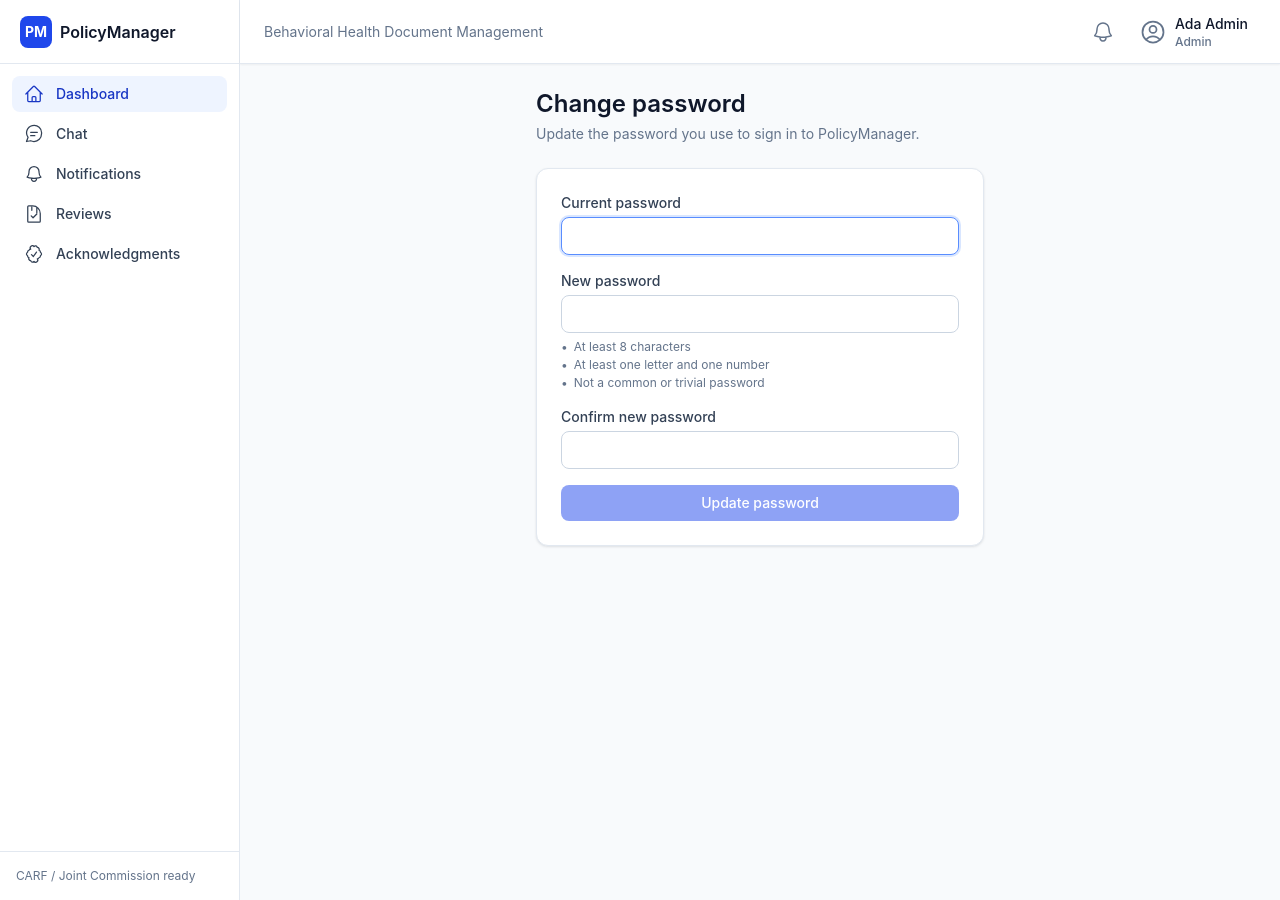
it: ChangePasswordPage › submits a valid change and shows a success confirmation
Step 1. Type "OldPass123" into the password field labelled "Current password" → (760, 236), box [561, 217, 959, 255]
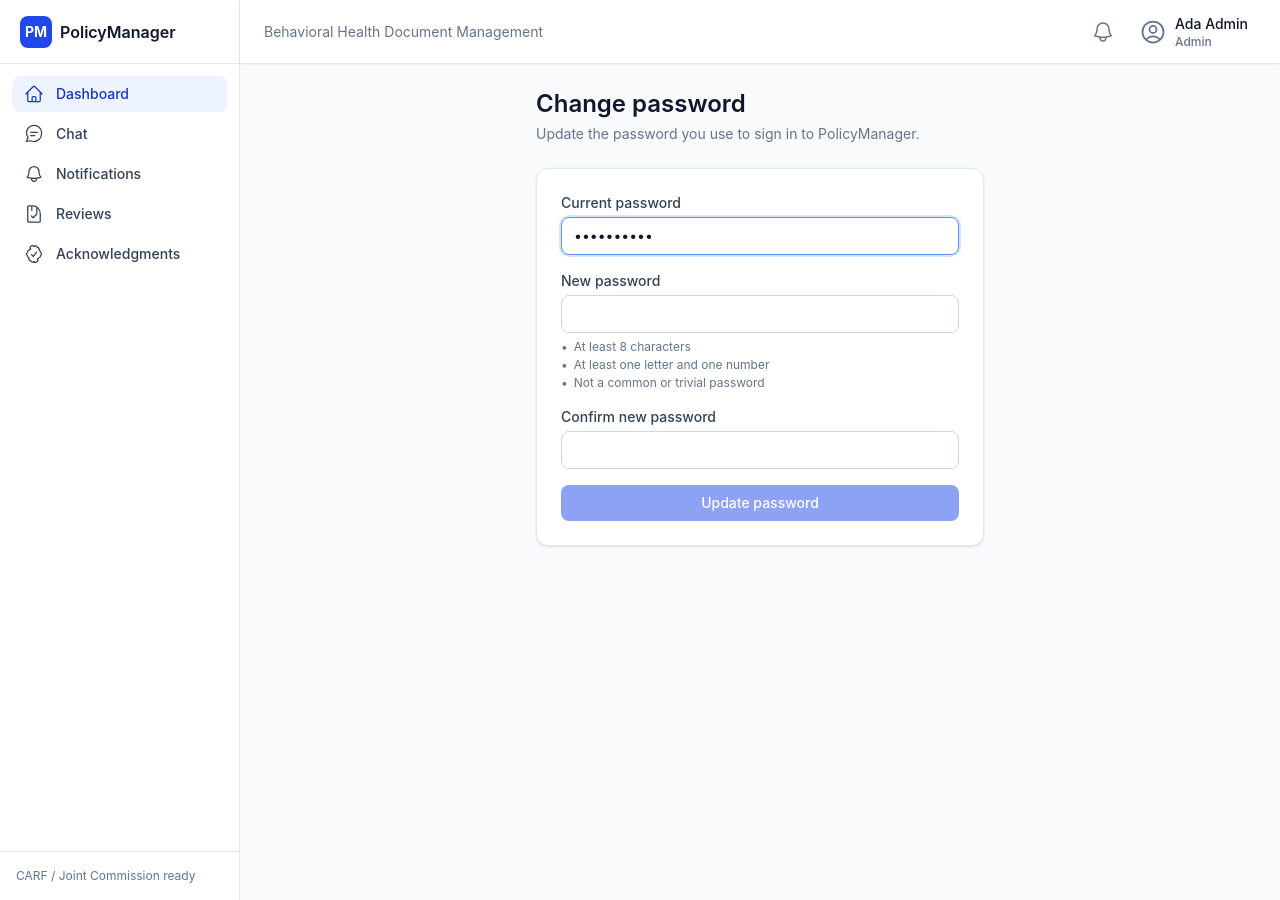
Step 2. Type "NewStr0ng" into the password field labelled "New password" → (760, 314), box [561, 295, 959, 333]
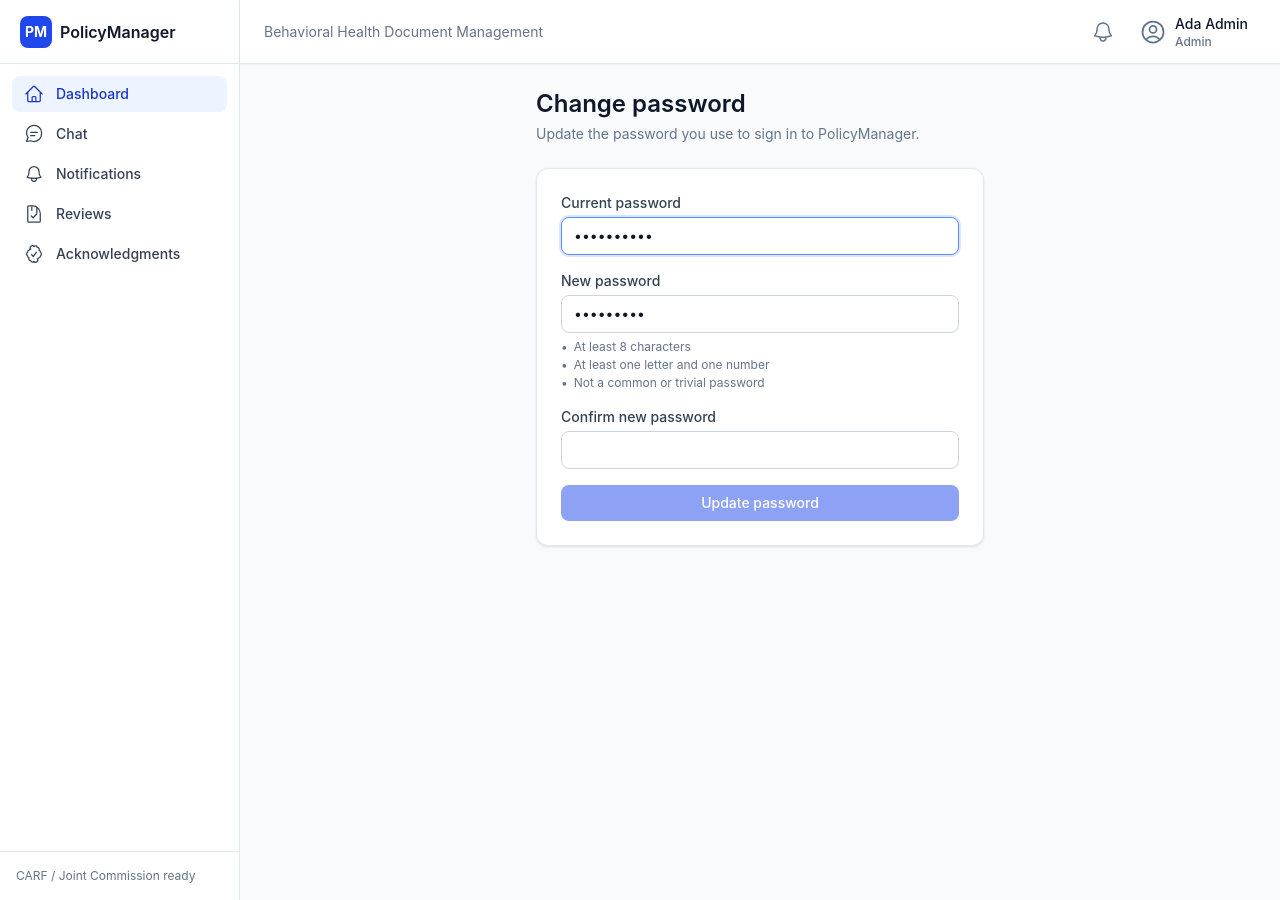
Step 3. Type "NewStr0ng" into the password field labelled "Confirm new password" → (760, 450), box [561, 431, 959, 469]
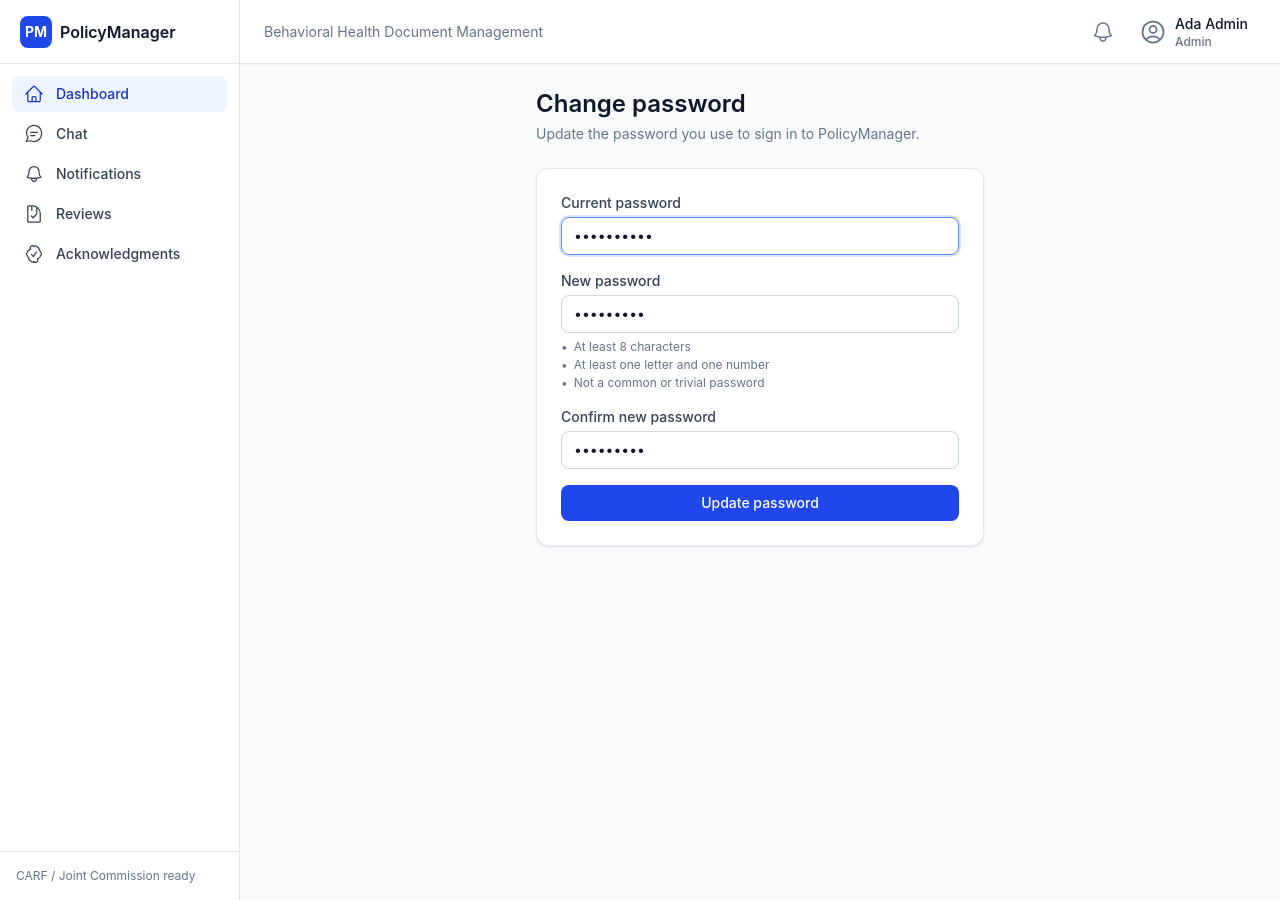
Step 4. Click the button "Update password" → (760, 503), box [561, 485, 959, 521]
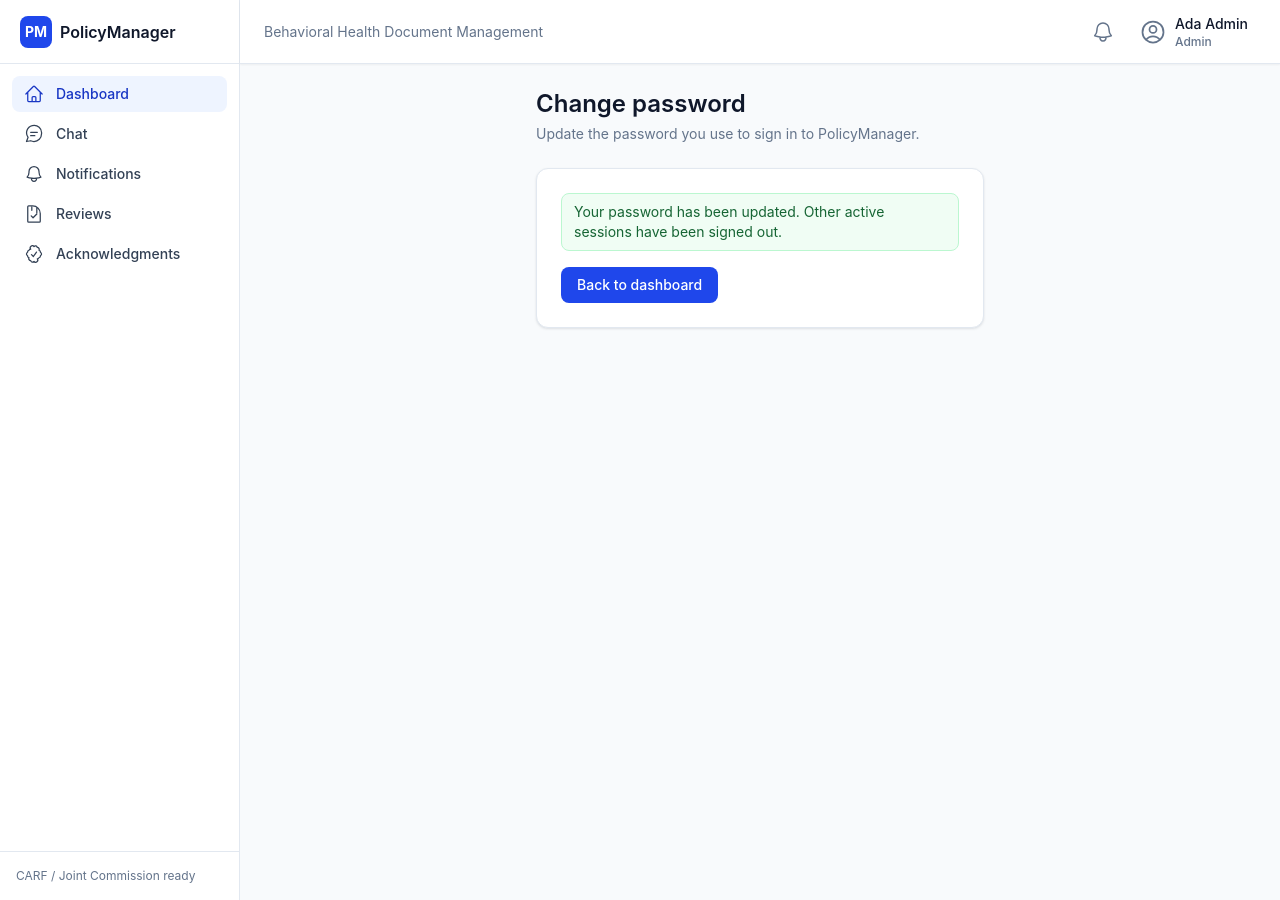
Check: the text "Your password has been updated. Other active sessions have been signed out." is shown, box [561, 193, 959, 251]
